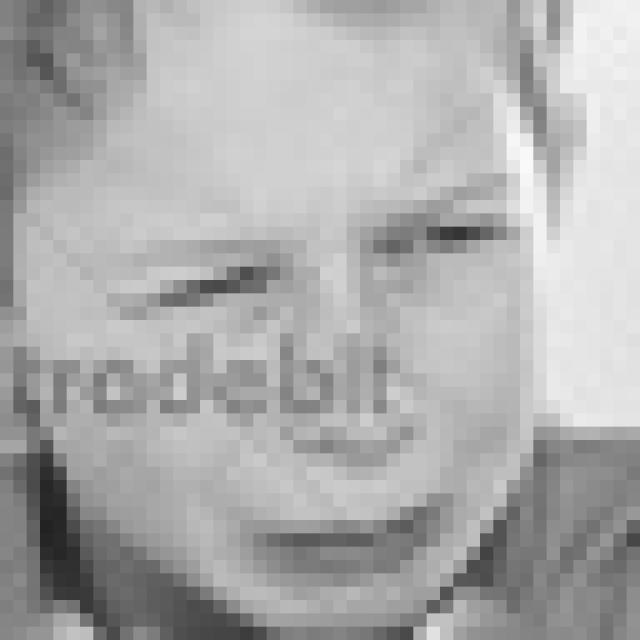disgust: (115, 158, 542, 598)
